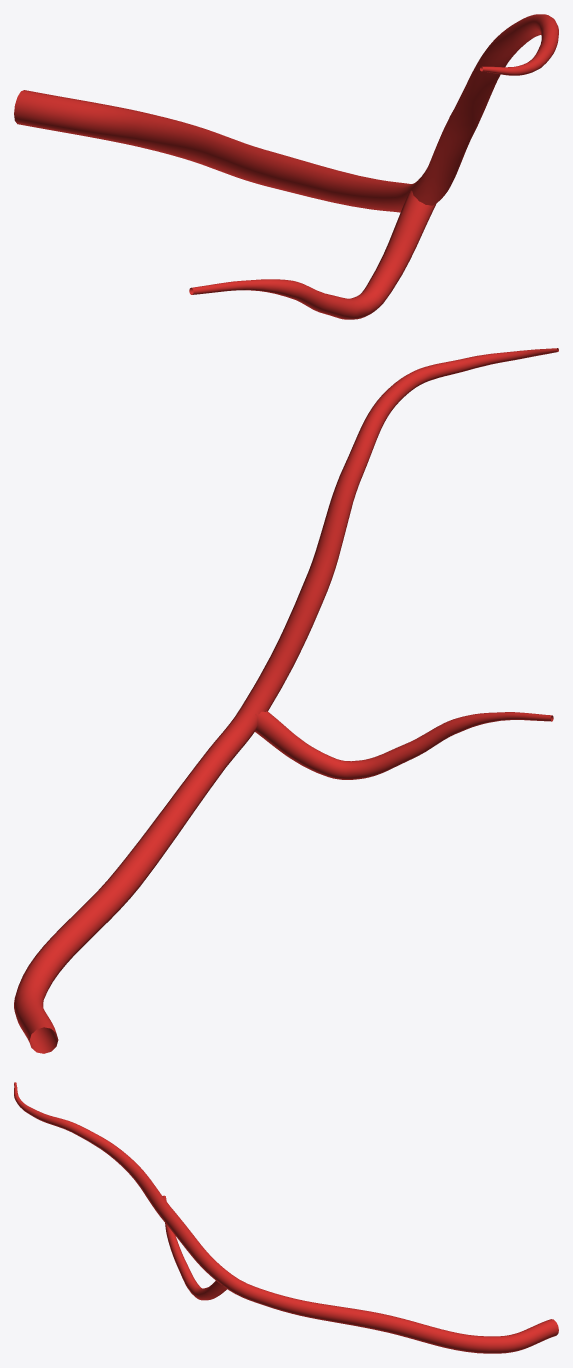
File: circulatorio-orbitofrontal-branches-of-anterior-cerebral-artery-r.glb
3 renders of one model, top to bottom at view 1: azimuth 30°, elevation 25°; view 2: azimuth 150°, elevation 25°; view 3: azimuth 270°, elevation 25°, orthographic. The views are drawn at different scales.
Parts seen in each view (by area): view 1: Orbitofrontal branches of anterior cerebral artery.r; view 2: Orbitofrontal branches of anterior cerebral artery.r; view 3: Orbitofrontal branches of anterior cerebral artery.r.
Part boxes in pixels (left/top/right/bottom): Orbitofrontal branches of anterior cerebral artery.r: left=14, top=14, right=558, bottom=319; Orbitofrontal branches of anterior cerebral artery.r: left=14, top=348, right=558, bottom=1053; Orbitofrontal branches of anterior cerebral artery.r: left=14, top=1082, right=558, bottom=1353.
Size of the model in its own units: 0.0147 by 0.0208 by 0.0436.
